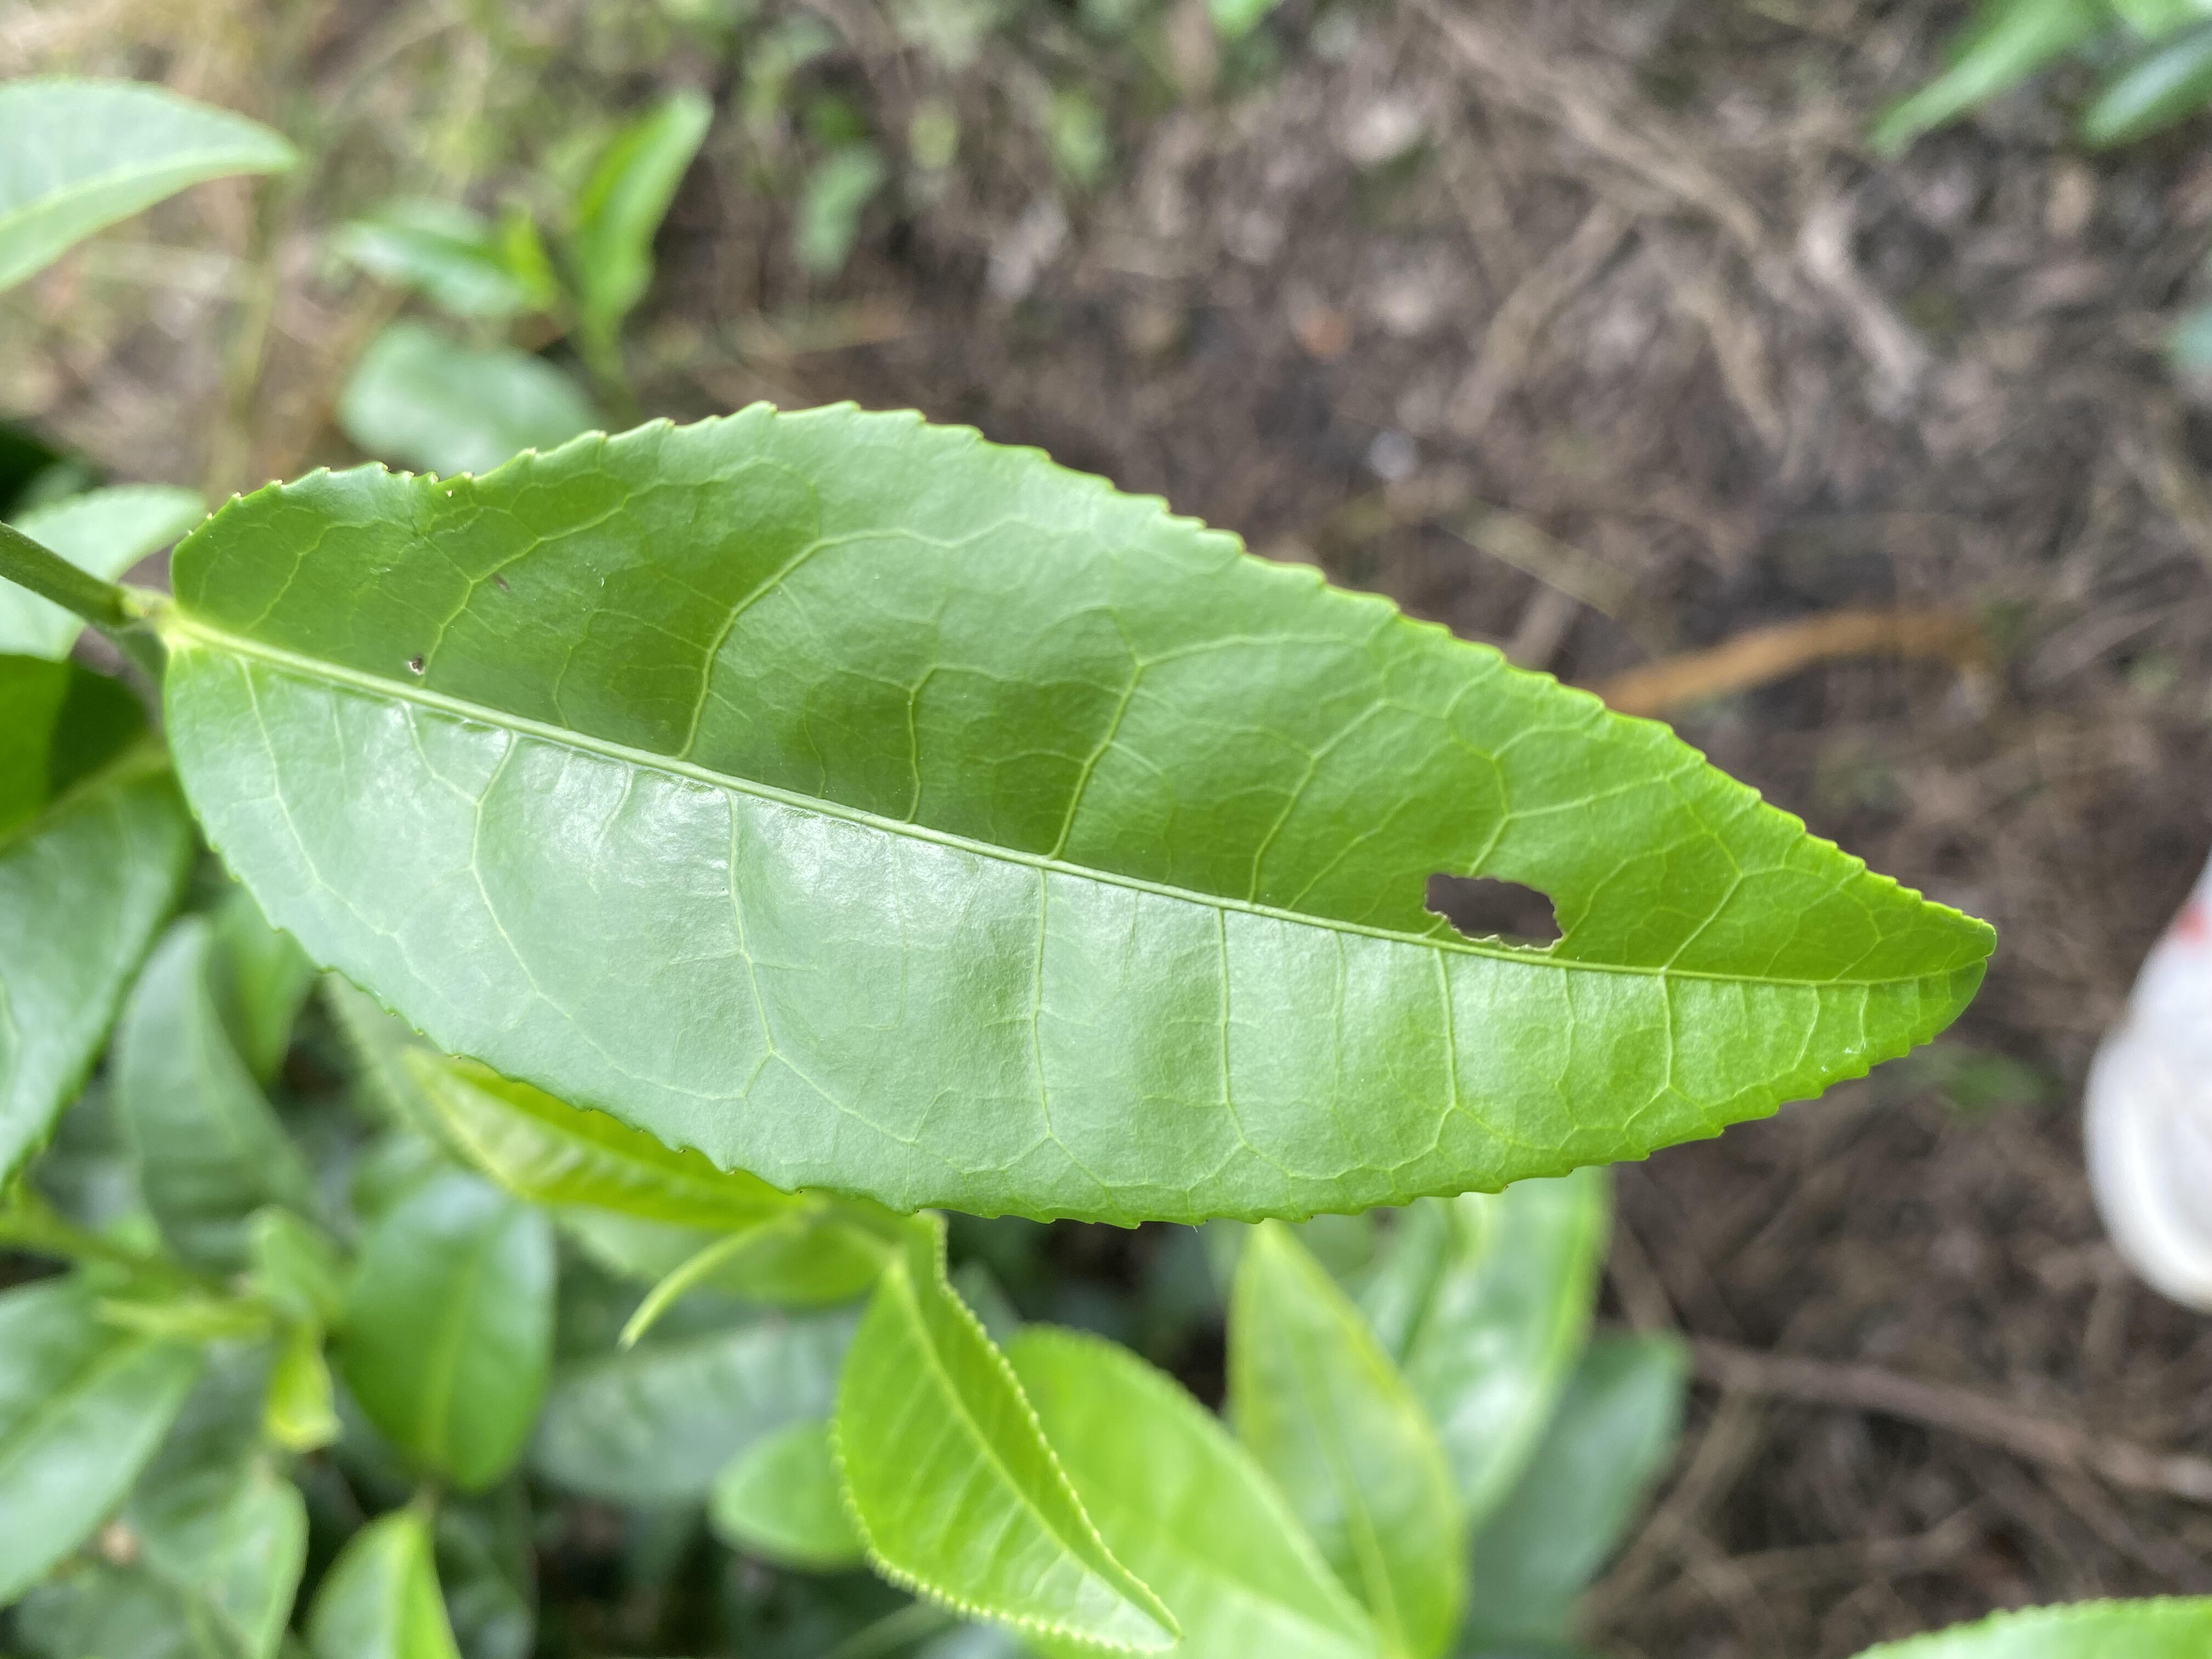chihuo_low: (162, 396, 2000, 1229)
healthy: (827, 1208, 1183, 1656)
